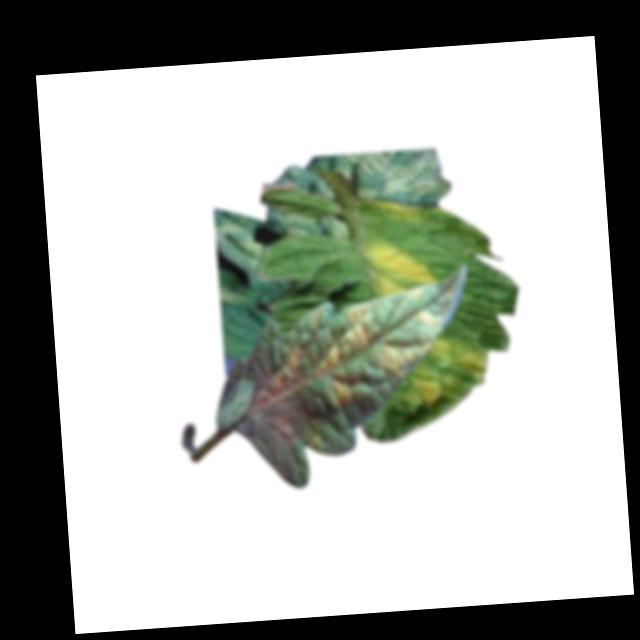Leaf_Mold: (408, 331, 495, 410), (346, 148, 451, 209), (310, 300, 387, 378), (362, 239, 440, 298), (383, 333, 429, 390), (262, 344, 310, 398), (329, 377, 360, 407), (413, 307, 442, 331)
